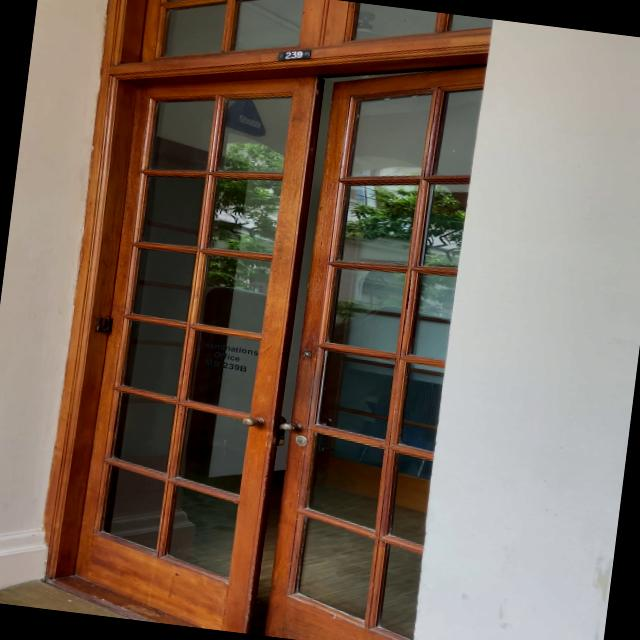room239: (278, 46, 310, 66)
